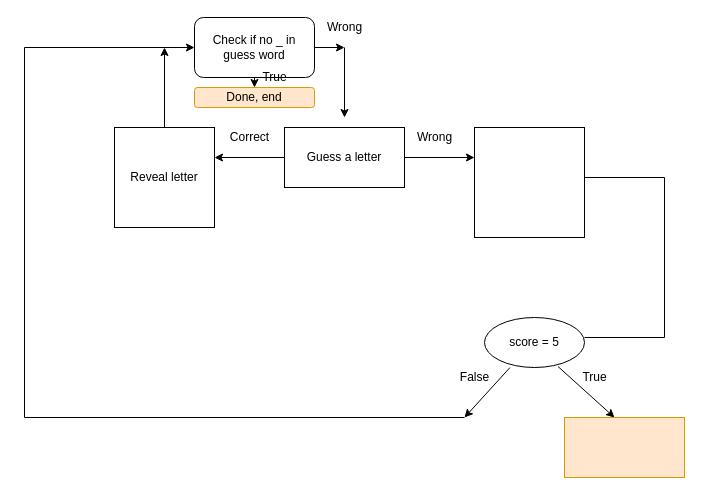
Some shapes in this 702 by 495 pixel diagram are drawn without their labels. Here are the shapes that lost their labels. From the top down, the box of each, then its label:
(474, 126, 584, 238): update score
(564, 416, 684, 478): Game over
